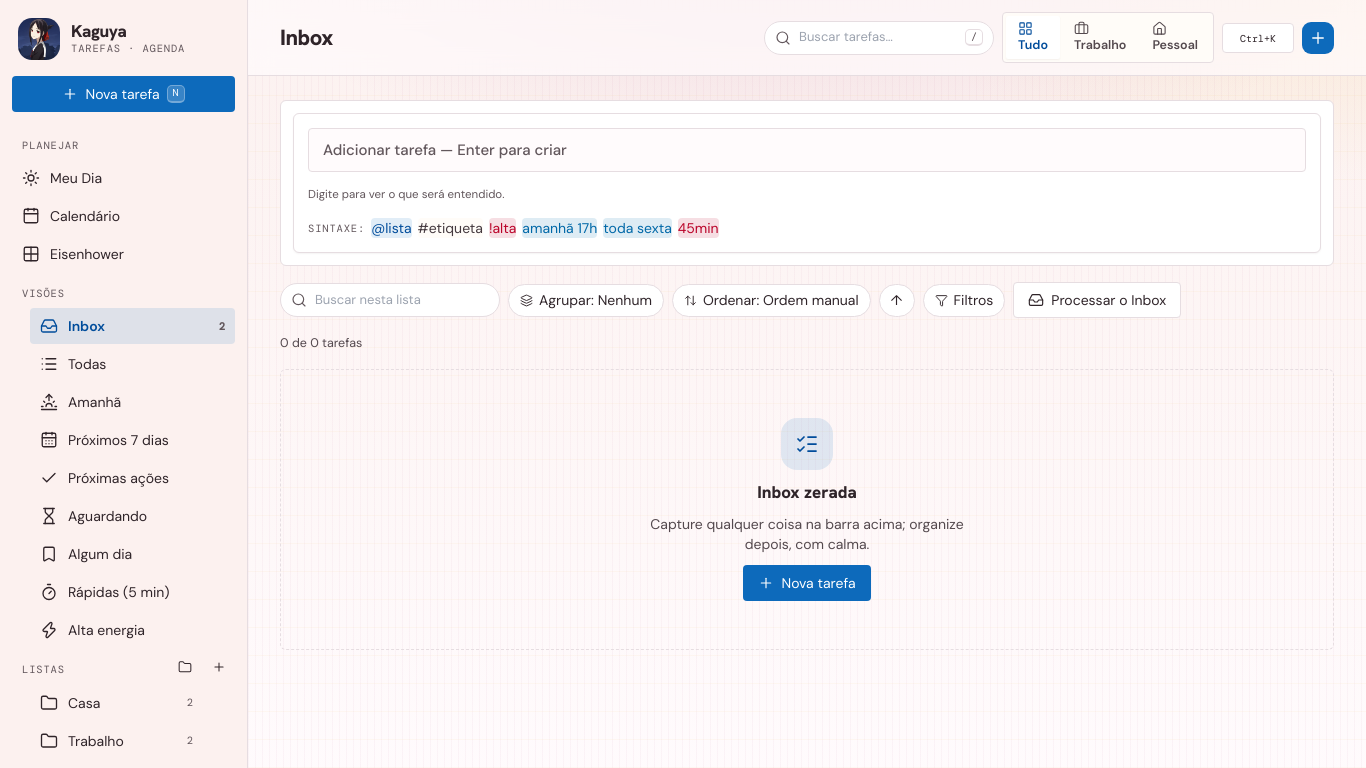
Processar o Inbox › renomear e mover para a lista valem junto com a decisão
The width and height of the screenshot is (1366, 768).
Click the button "Processar o Inbox". click: (1097, 300)
box: [1013,282,1181,318]
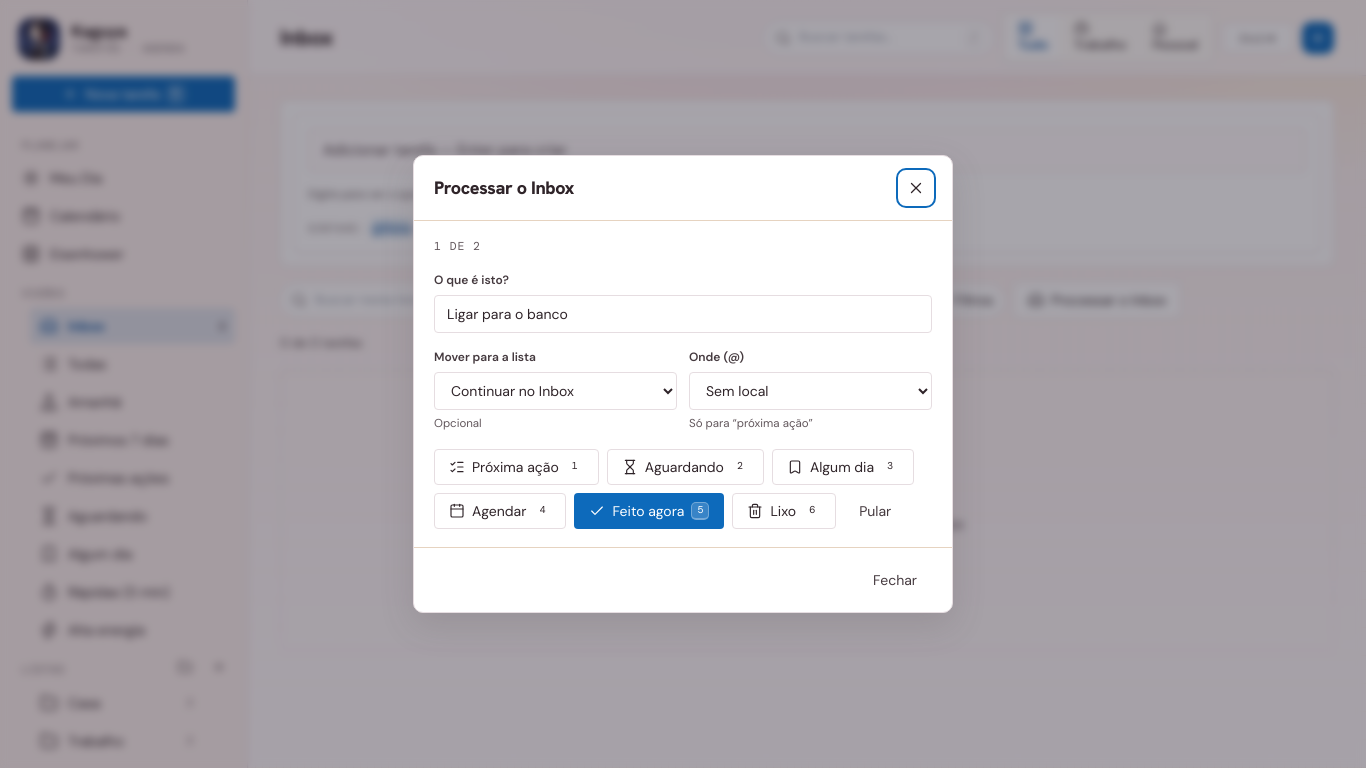
Replace the text in the field showing "Ligar para o banco" with "Ligar para o banco hoje". click: (683, 314)
box: [434,295,932,333]
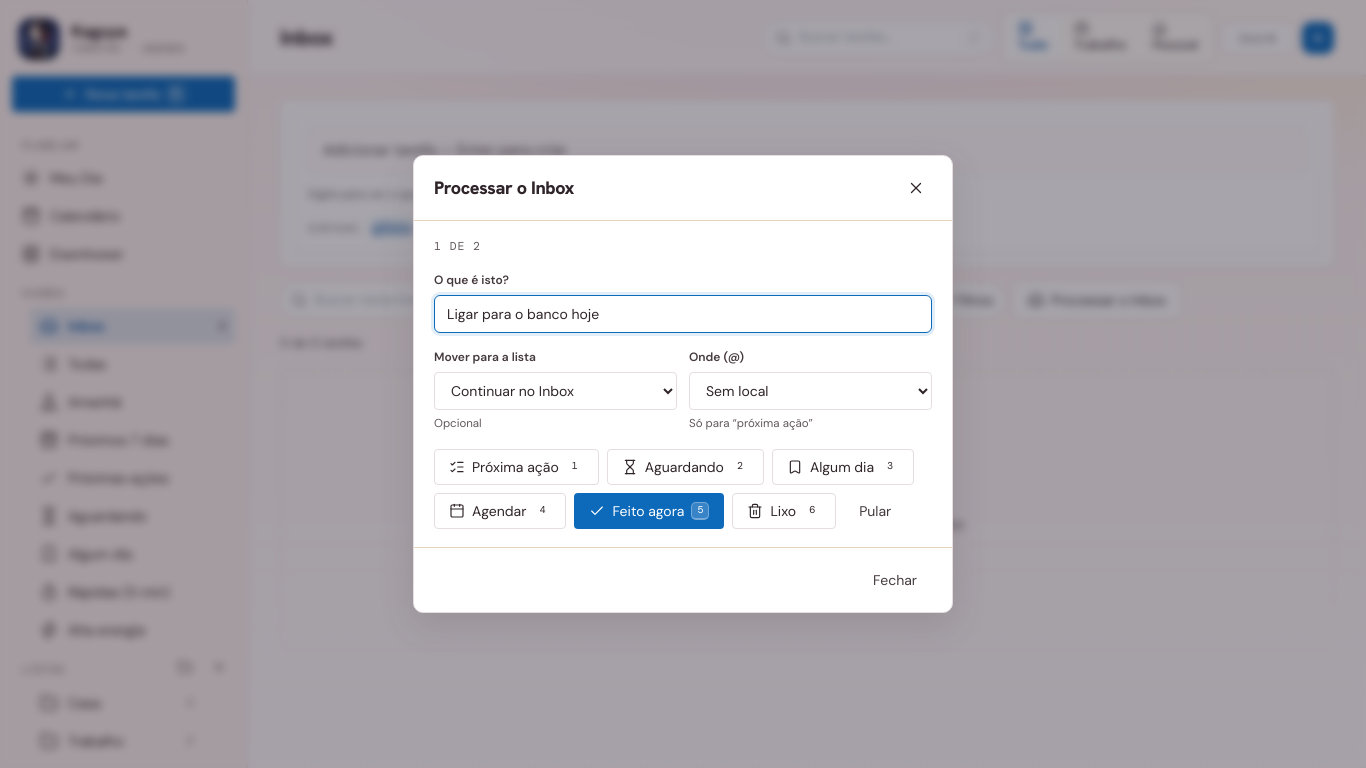
Select "Casa" in the dropdown labelled "Mover para a lista". click: (556, 391)
box: [434,372,677,410]
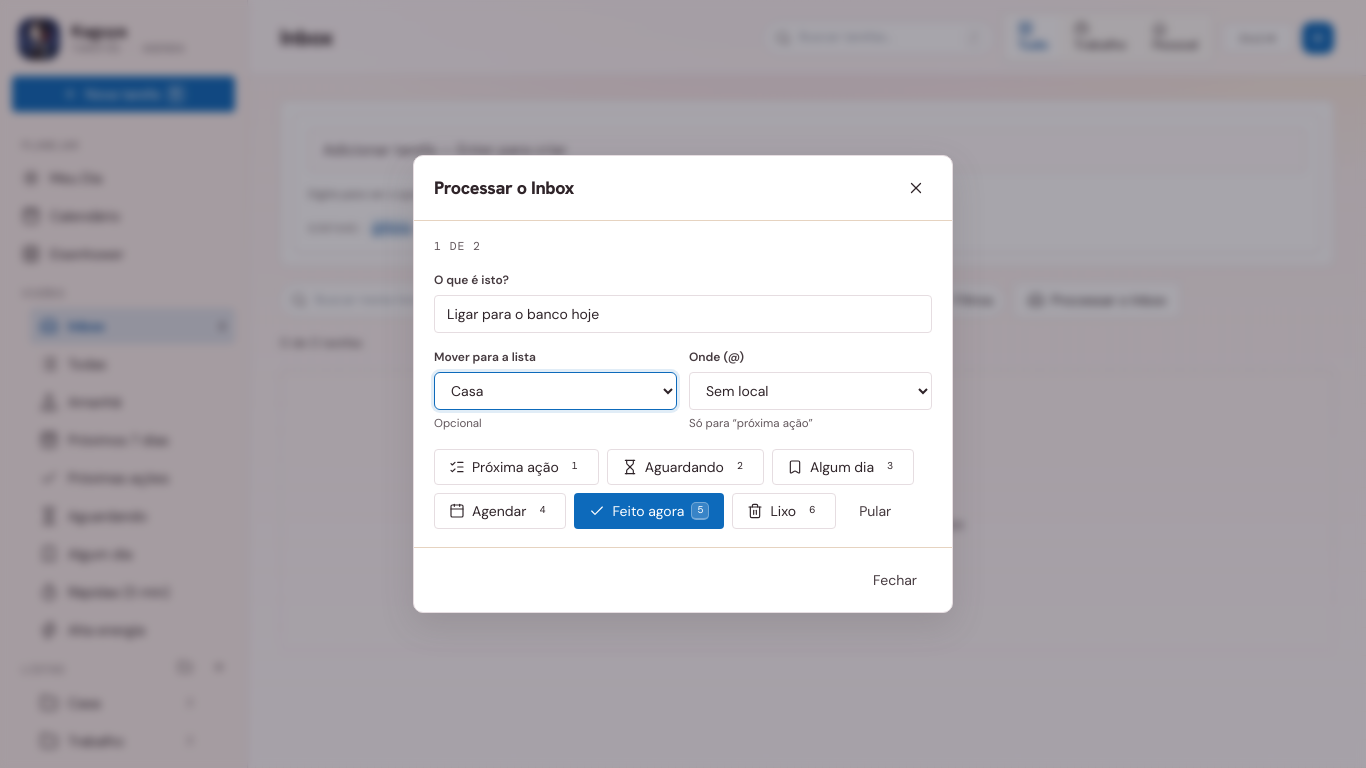
Select "@casa" in the dropdown labelled "Onde (@)". click: (810, 391)
box: [689,372,932,410]
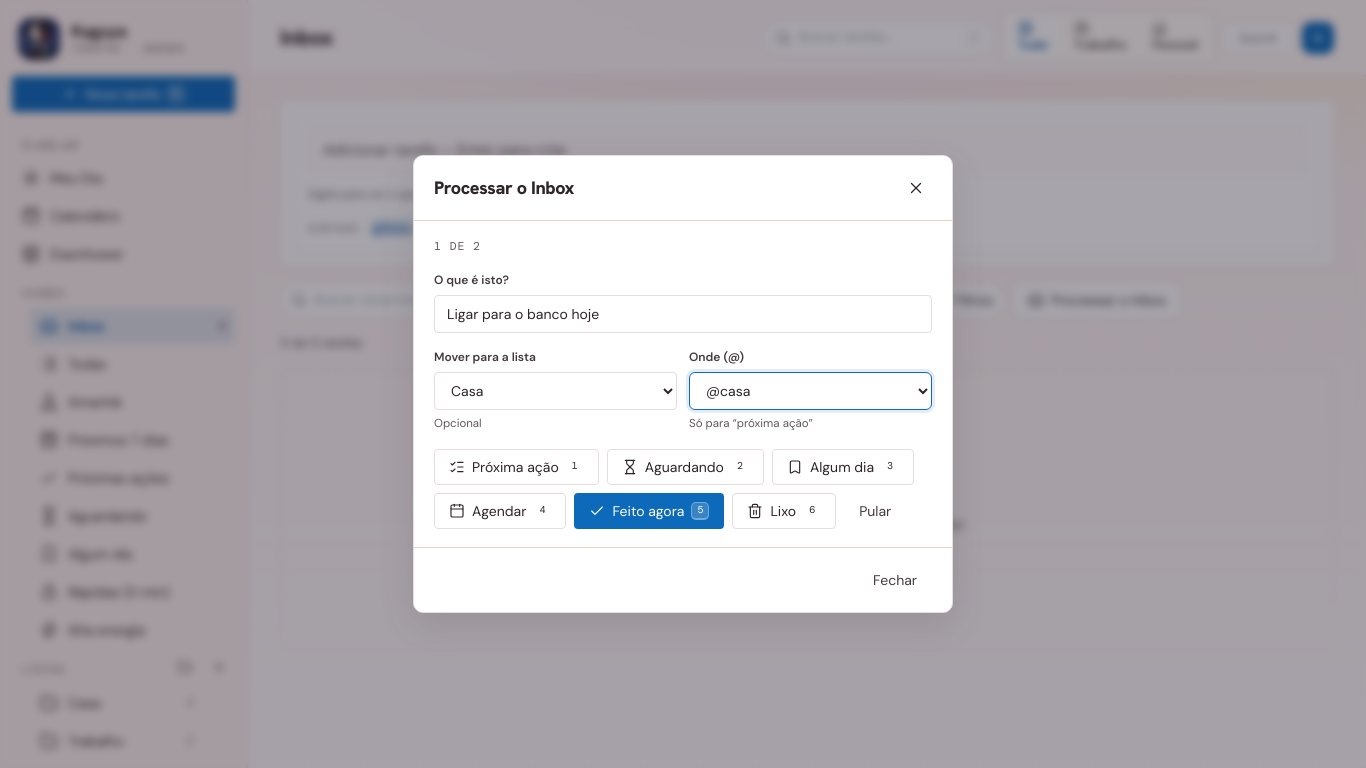
Click the button "Próxima ação 1". click: (516, 467)
box: [434,449,599,485]
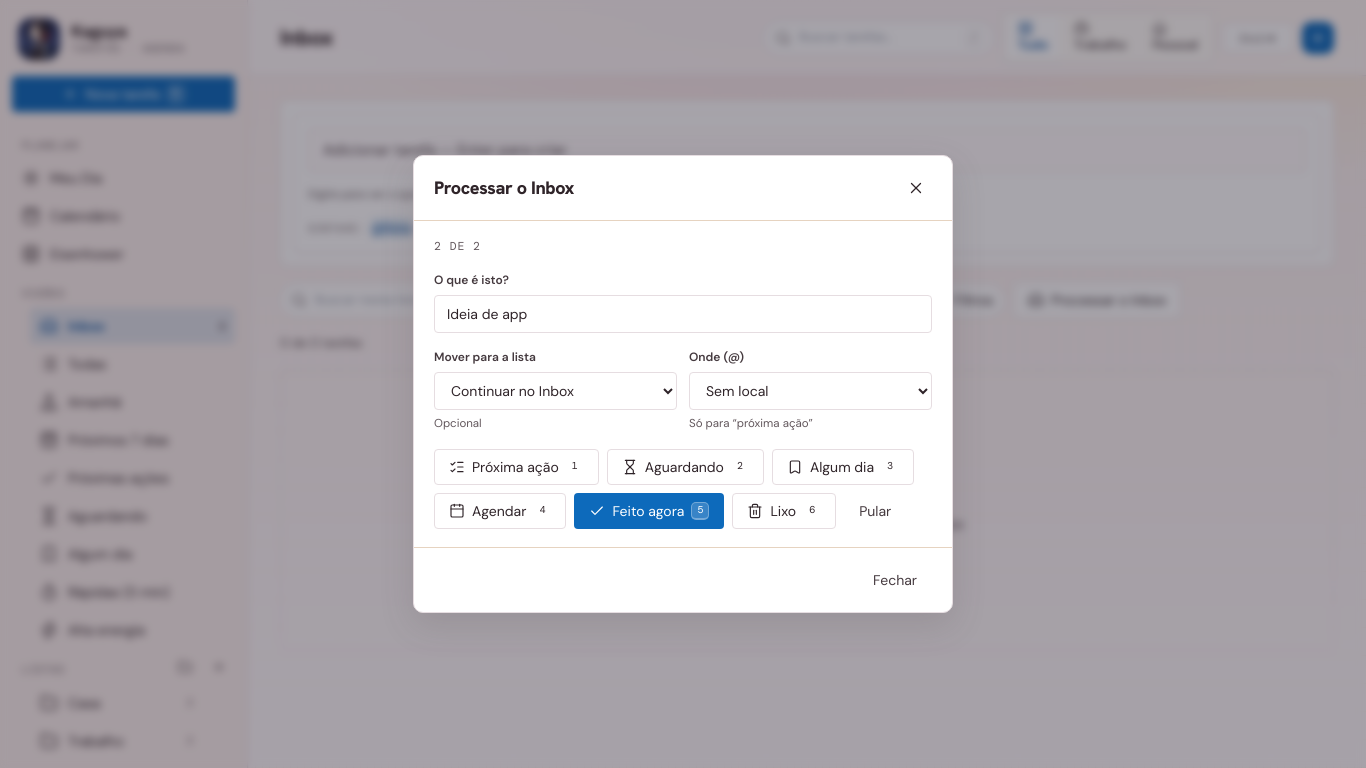
Result: the field showing "Ideia de app" is shown at [434,295,932,333]
